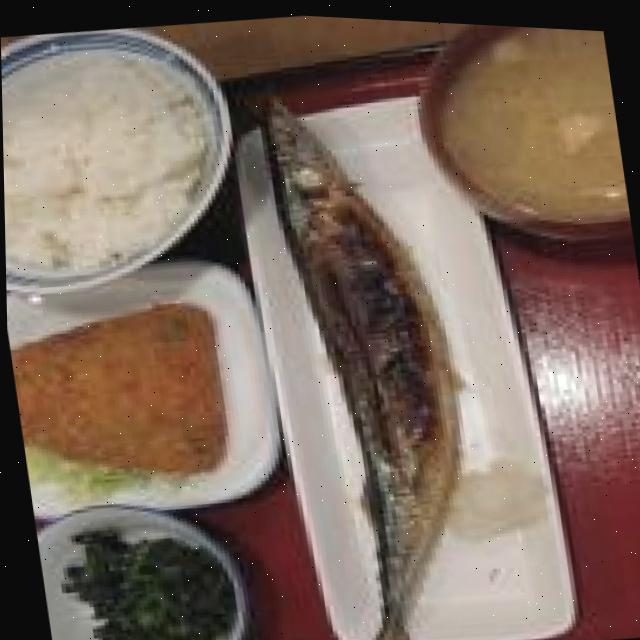熟制海鲜: (223, 37, 492, 640)
